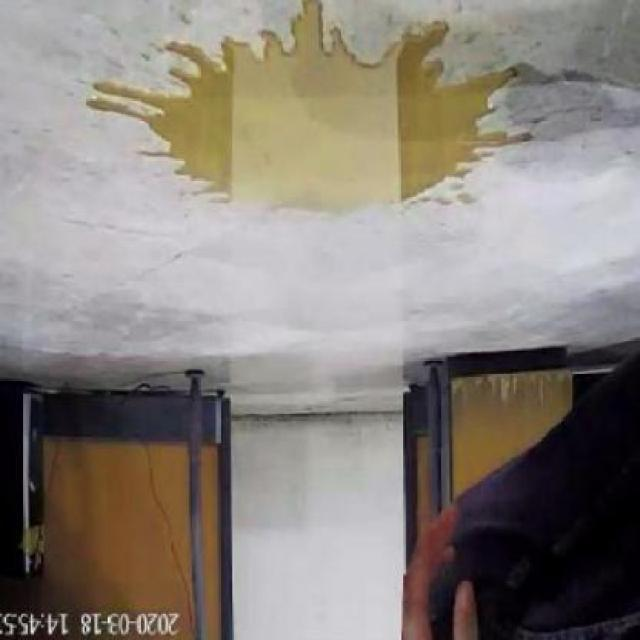spillage: (87, 0, 519, 210)
